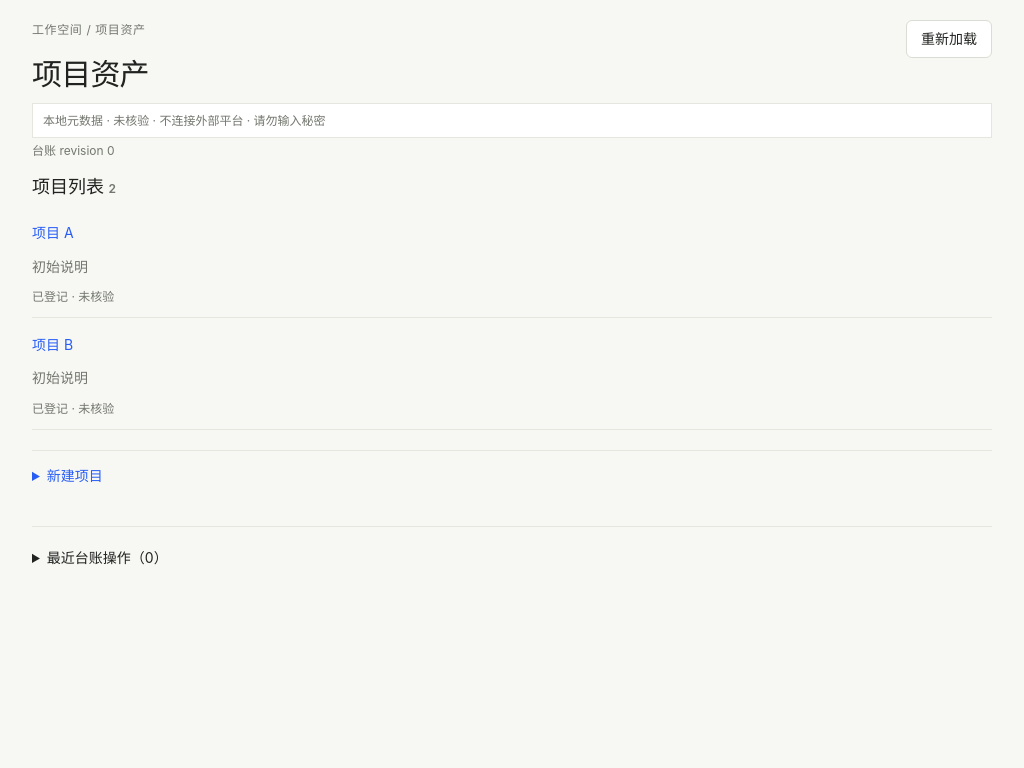
shows one concise global catalog boundary without repeating it in the header
Expected: the text named "台账边界" reads "本地元数据 · 未核验 · 不连接外部平台 · 请勿输入秘密", [43,113,326,128]
Click the button "项目 A" at {"x": 53, "y": 233}, box [32,217,74,249]
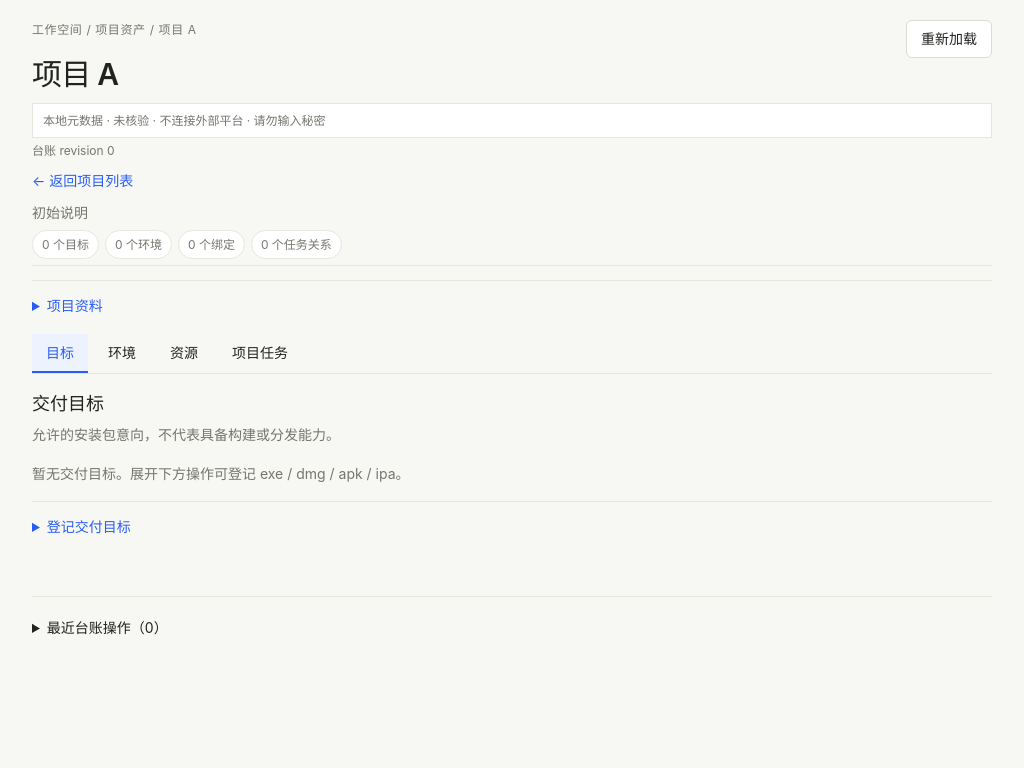
Now the heading "项目 A" is shown, box [32,56,118,92]
Now the list item "0 个目标" is shown, box [32,230,99,259]
